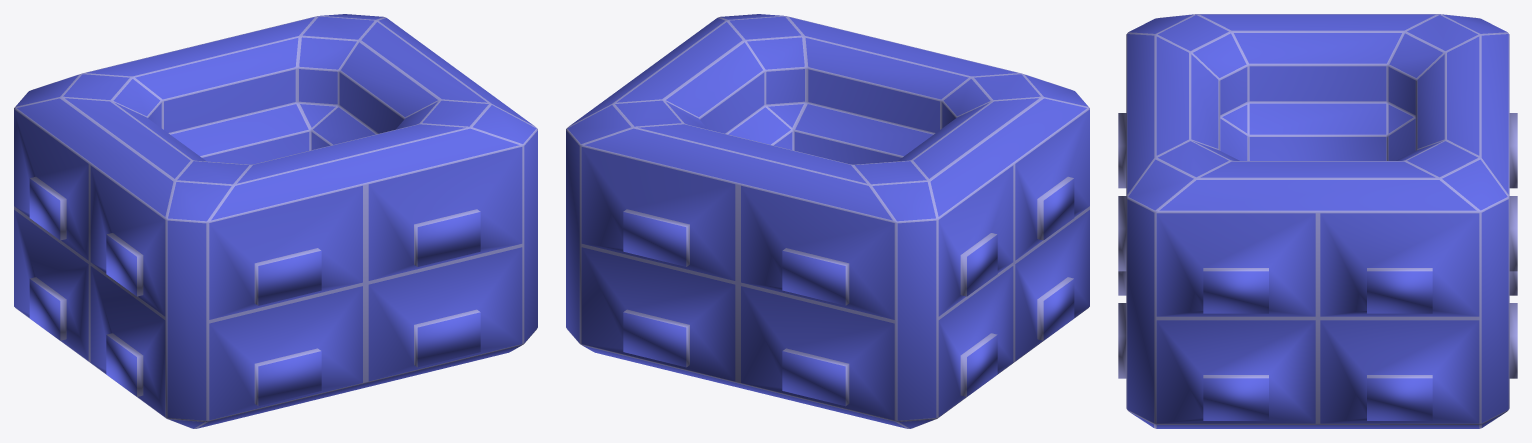
The model's file is Extra 1.fbx.
The picture shows the model from 3 angles, left to right: view 1: azimuth 30°, elevation 25°; view 2: azimuth 150°, elevation 25°; view 3: azimuth 270°, elevation 25°; orthographic projection. The views are drawn at different scales.
Visible parts, largest first — view 1: Extra 1; view 2: Extra 1; view 3: Extra 1.
Part boxes in pixels (left/top/right/bottom): Extra 1: left=14, top=14, right=537, bottom=428; Extra 1: left=566, top=14, right=1089, bottom=428; Extra 1: left=1118, top=14, right=1517, bottom=428.
Size of the model in its own units: 379 by 221 by 319.
